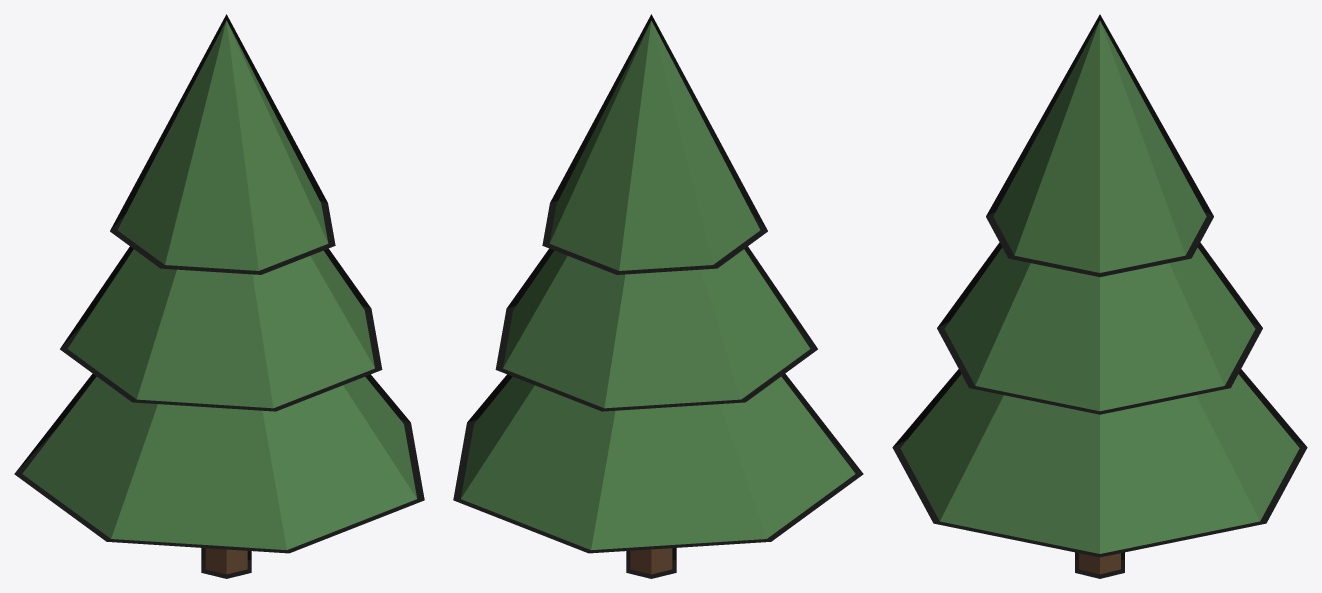
The model's file is Agac_cam_2.fbx.
3 views of the same model, side by side, from view 1: azimuth 30°, elevation 25°; view 2: azimuth 150°, elevation 25°; view 3: azimuth 270°, elevation 25° (orthographic).
Visible parts, largest first — view 1: Agac_cam_2; view 2: Agac_cam_2; view 3: Agac_cam_2.
Part boxes in pixels (x1=…): Agac_cam_2: x1=14, y1=14, x2=424, y2=578; Agac_cam_2: x1=453, y1=14, x2=863, y2=578; Agac_cam_2: x1=892, y1=14, x2=1307, y2=578.
Bounding box in the file's own units: 2.66 × 4.01 × 2.73.
